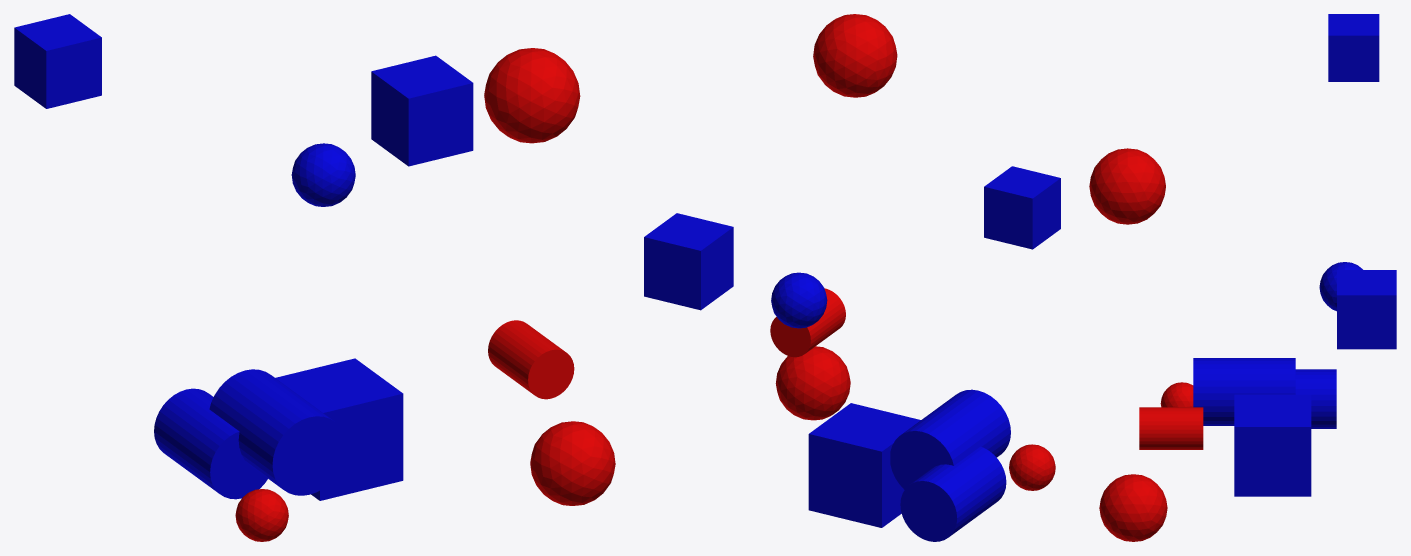
Rendered from scene_trimesh.obj.
The picture shows the model from 3 angles, left to right: view 1: azimuth 30°, elevation 25°; view 2: azimuth 150°, elevation 25°; view 3: azimuth 270°, elevation 25°; orthographic projection. The views are drawn at different scales.
Parts seen in each view (by area): view 1: geometry_8, geometry_4, geometry_7, geometry_9, geometry_1, geometry_2, geometry_3, geometry_5, geometry_6, geometry_0; view 2: geometry_4, geometry_7, geometry_8, geometry_2, geometry_9, geometry_1, geometry_3, geometry_6, geometry_5, geometry_0; view 3: geometry_4, geometry_8, geometry_7, geometry_9, geometry_3, geometry_1, geometry_5, geometry_2, geometry_6, geometry_0.
Part boxes in pixels (bbox=[...]): geometry_8: bbox=[209, 369, 346, 495]; geometry_4: bbox=[275, 358, 403, 500]; geometry_7: bbox=[371, 55, 473, 166]; geometry_9: bbox=[484, 48, 580, 143]; geometry_1: bbox=[14, 14, 101, 108]; geometry_2: bbox=[154, 388, 267, 499]; geometry_3: bbox=[530, 421, 615, 505]; geometry_5: bbox=[488, 320, 574, 399]; geometry_6: bbox=[291, 143, 355, 206]; geometry_0: bbox=[235, 489, 288, 541]; geometry_4: bbox=[808, 403, 920, 527]; geometry_7: bbox=[644, 213, 733, 310]; geometry_8: bbox=[890, 389, 1010, 489]; geometry_2: bbox=[900, 446, 1006, 541]; geometry_9: bbox=[813, 14, 897, 97]; geometry_1: bbox=[984, 166, 1060, 249]; geometry_3: bbox=[775, 346, 850, 420]; geometry_6: bbox=[771, 272, 827, 328]; geometry_5: bbox=[770, 288, 845, 357]; geometry_0: bbox=[1009, 444, 1055, 490]; geometry_4: bbox=[1234, 394, 1311, 496]; geometry_8: bbox=[1193, 358, 1295, 425]; geometry_7: bbox=[1337, 270, 1396, 349]; geometry_9: bbox=[1089, 148, 1165, 224]; geometry_3: bbox=[1099, 474, 1167, 541]; geometry_1: bbox=[1328, 14, 1379, 81]; geometry_5: bbox=[1139, 407, 1203, 449]; geometry_2: bbox=[1295, 369, 1336, 428]; geometry_6: bbox=[1319, 262, 1362, 311]; geometry_0: bbox=[1160, 382, 1193, 407].
Size of the model in its own units: 1.91 by 1.91 by 1.44.
